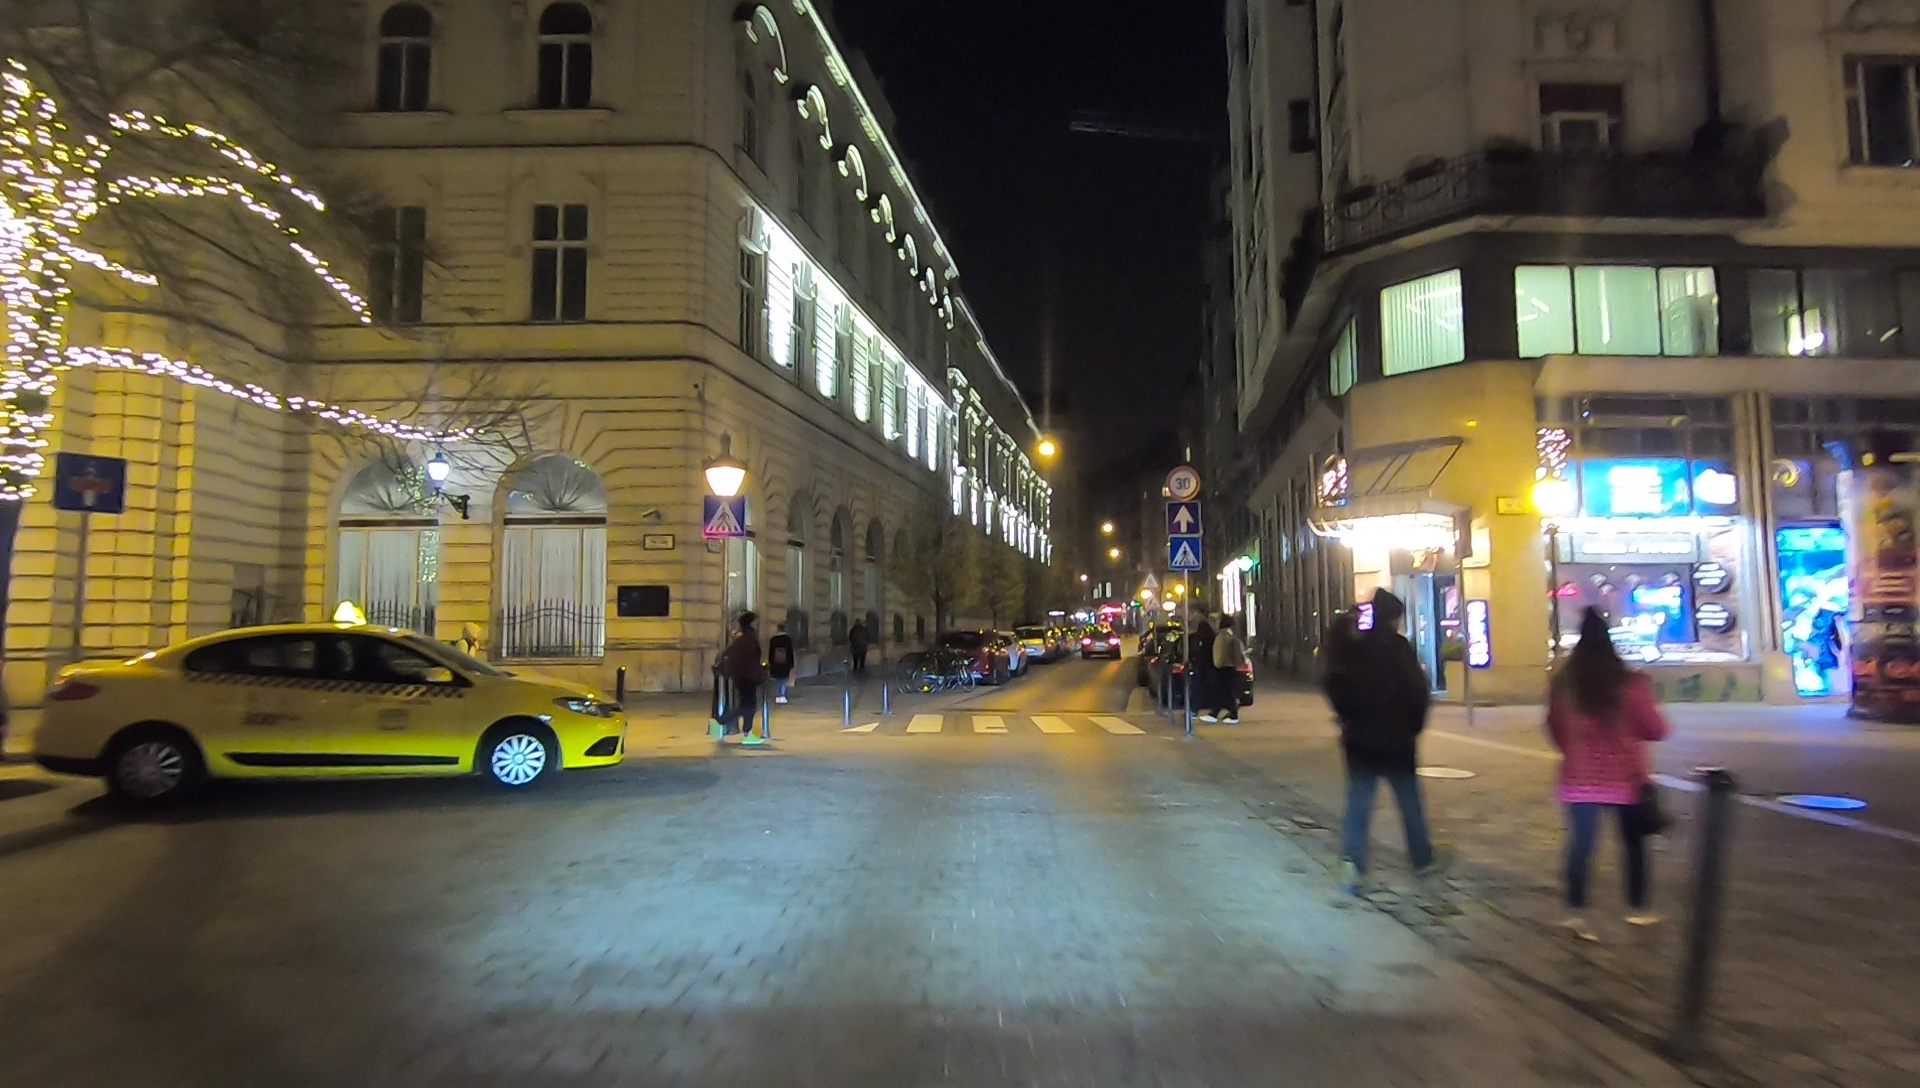person: (1545, 613, 1665, 941), (1332, 599, 1441, 884), (712, 613, 771, 749), (1328, 602, 1365, 710), (1210, 621, 1247, 728), (1189, 615, 1221, 726), (454, 617, 482, 700), (769, 624, 789, 700), (847, 617, 867, 671)
